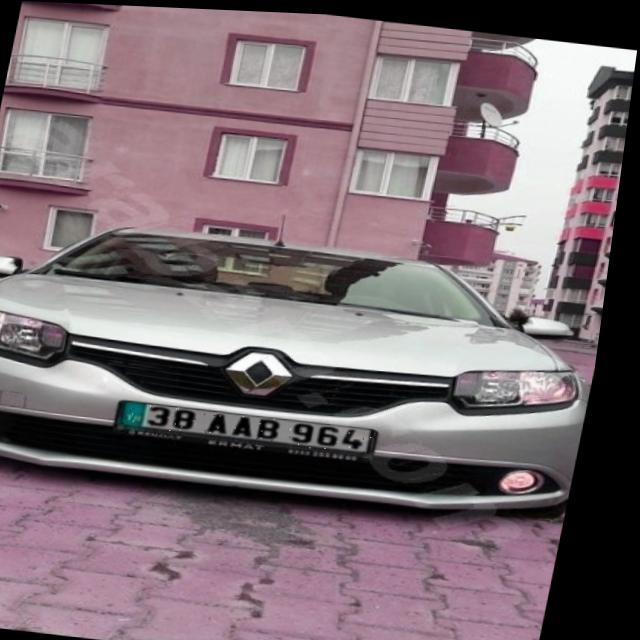license_plate: (125, 399, 388, 452)
